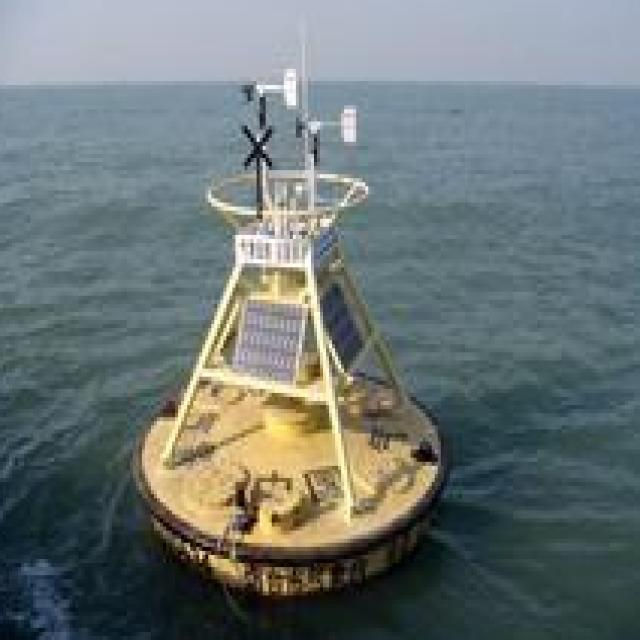buoy: (140, 51, 452, 593)
